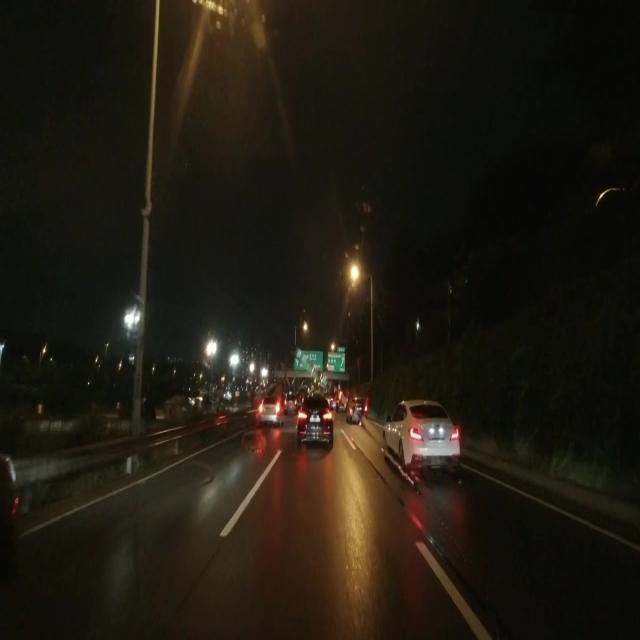Car: (380, 392, 459, 478), (295, 394, 333, 449), (258, 392, 283, 425)
